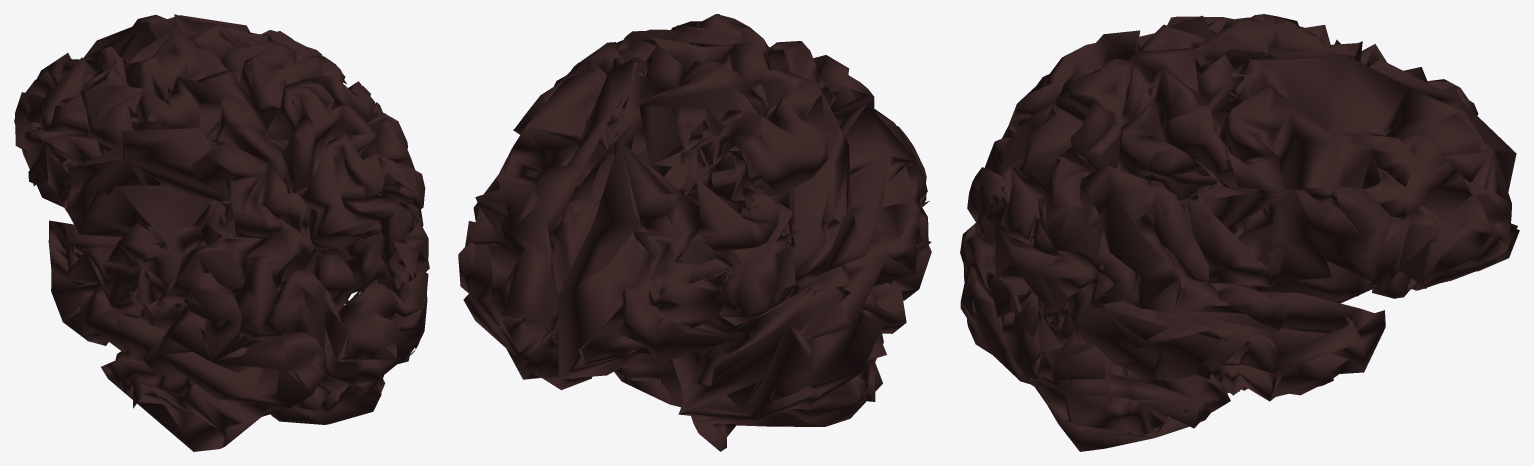
Rendered from brain-wire.glb.
The picture shows the model from 3 angles, left to right: view 1: azimuth 30°, elevation 25°; view 2: azimuth 150°, elevation 25°; view 3: azimuth 270°, elevation 25°; orthographic projection. The views are drawn at different scales.
Parts seen in each view (by area): view 1: Object_3, Object_2, Object_4; view 2: Object_3, Object_4, Object_2; view 3: Object_3, Object_2, Object_5, Object_4.
Boxes of the visible parts, bbox=[...] form: Object_3: bbox=[24, 14, 385, 394]; Object_2: bbox=[101, 14, 427, 451]; Object_4: bbox=[14, 21, 429, 407]; Object_3: bbox=[458, 36, 931, 390]; Object_4: bbox=[558, 75, 931, 419]; Object_2: bbox=[515, 14, 883, 451]; Object_3: bbox=[960, 14, 1519, 396]; Object_2: bbox=[960, 49, 1517, 451]; Object_5: bbox=[1009, 109, 1281, 380]; Object_4: bbox=[968, 33, 1516, 386].
Bounding box in the file's own units: 132 × 141 × 181.
